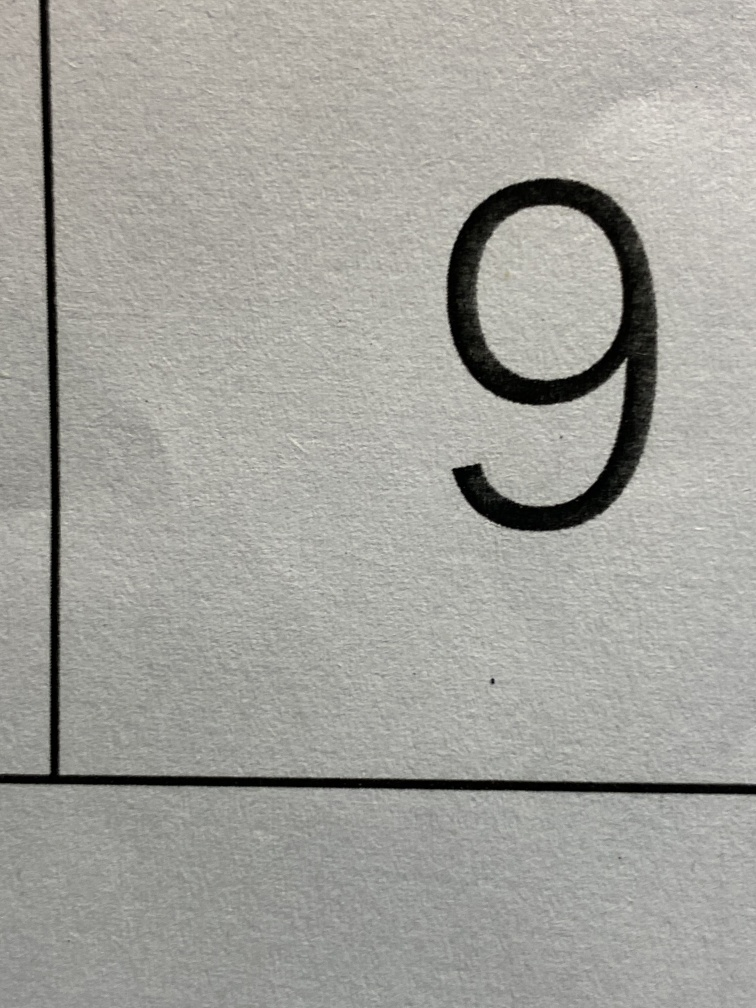nine: (365, 102, 732, 626)
